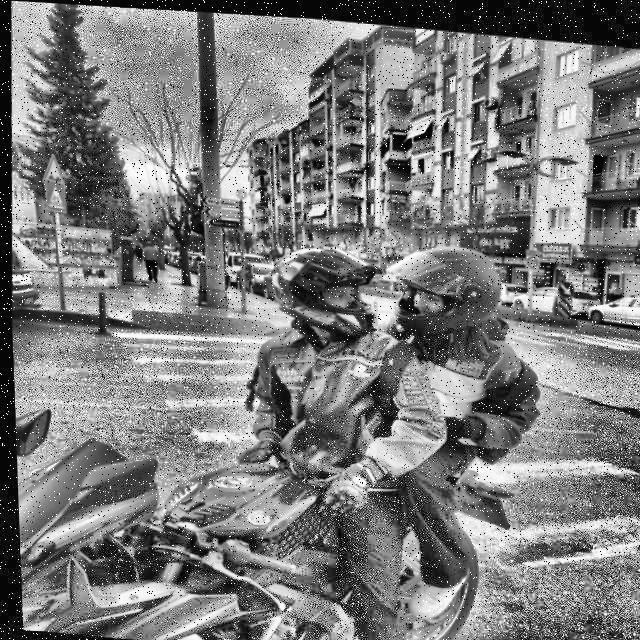Helmet: (376, 232, 507, 342), (261, 234, 379, 339)
